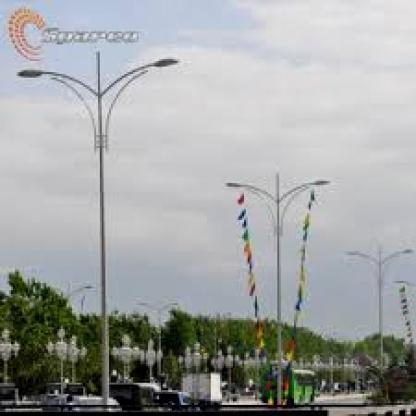light_pole: (15, 57, 180, 405), (226, 178, 330, 411), (344, 244, 413, 400)
